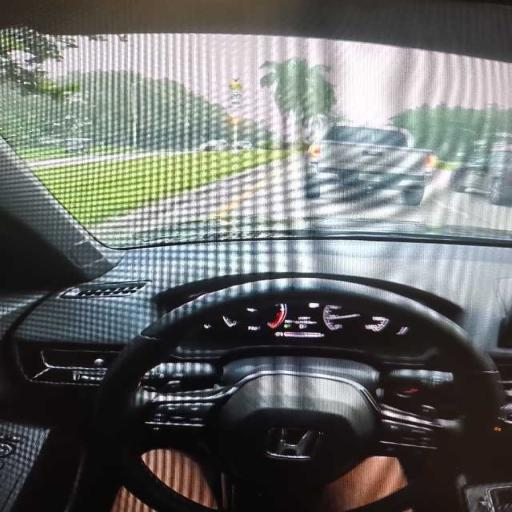car: (0, 0, 511, 511), (451, 146, 511, 204), (450, 158, 487, 192), (64, 137, 91, 153), (200, 140, 229, 151), (232, 141, 253, 150)
lane: (96, 157, 511, 235), (28, 152, 192, 168)
truck: (306, 125, 437, 205)
